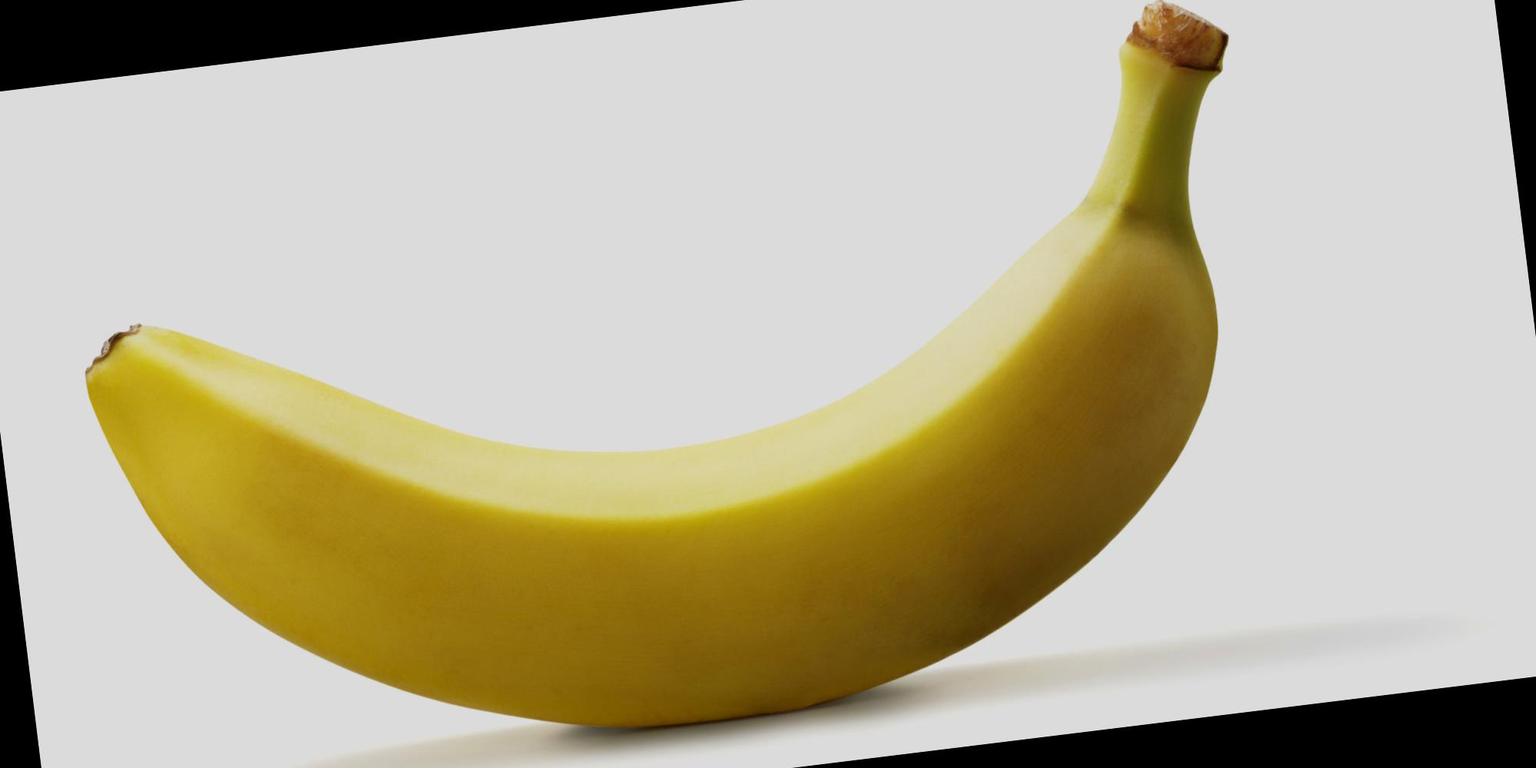Banana Ripe: (0, 85, 1348, 768)
